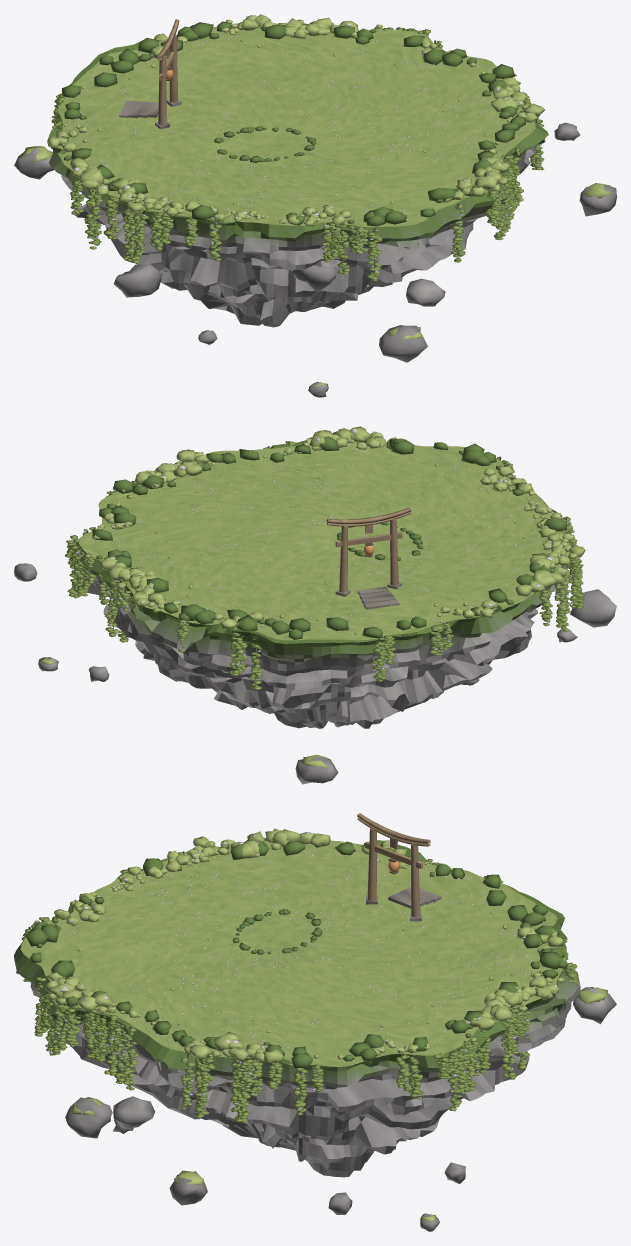
Rendered from meadow_b.glb.
The picture shows the model from 3 angles, top to bottom: view 1: azimuth 30°, elevation 25°; view 2: azimuth 150°, elevation 25°; view 3: azimuth 270°, elevation 25°; orthographic projection. The views are drawn at different scales.
Parts seen in each view (by area): view 1: Island, VineLeaves, ScatterRocks, RimShrubs, FloatRock, Flowers, Torii, FloatGrass, ToriiSteps; view 2: Island, RimShrubs, ScatterRocks, VineLeaves, FloatRock, Torii, Flowers, ToriiSteps; view 3: Island, VineLeaves, RimShrubs, ScatterRocks, FloatRock, Torii, Flowers, FloatGrass, VineStems.
Part boxes in pixels (x1,y1,x2,y2): Island: (47, 23, 548, 327); VineLeaves: (51, 23, 545, 281); ScatterRocks: (61, 21, 525, 226); RimShrubs: (47, 14, 544, 226); FloatRock: (14, 122, 616, 397); Flowers: (65, 29, 530, 221); Torii: (155, 19, 181, 129); FloatGrass: (20, 146, 612, 387); ToriiSteps: (119, 100, 158, 118); Island: (76, 440, 572, 728); RimShrubs: (84, 426, 585, 628); ScatterRocks: (92, 430, 566, 639); VineLeaves: (65, 434, 584, 689); FloatRock: (14, 563, 616, 784); Torii: (326, 507, 411, 596); Flowers: (91, 443, 560, 636); ToriiSteps: (357, 586, 399, 609); Island: (14, 840, 580, 1177); VineLeaves: (22, 837, 578, 1123); RimShrubs: (45, 828, 564, 1062); ScatterRocks: (25, 840, 568, 1068); FloatRock: (65, 987, 616, 1231); Torii: (357, 813, 430, 921); Flowers: (43, 844, 548, 1061); FloatGrass: (72, 987, 607, 1221); VineStems: (28, 838, 560, 1112).
Bounding box in the file's own units: 34.89 × 16.97 × 31.64.
